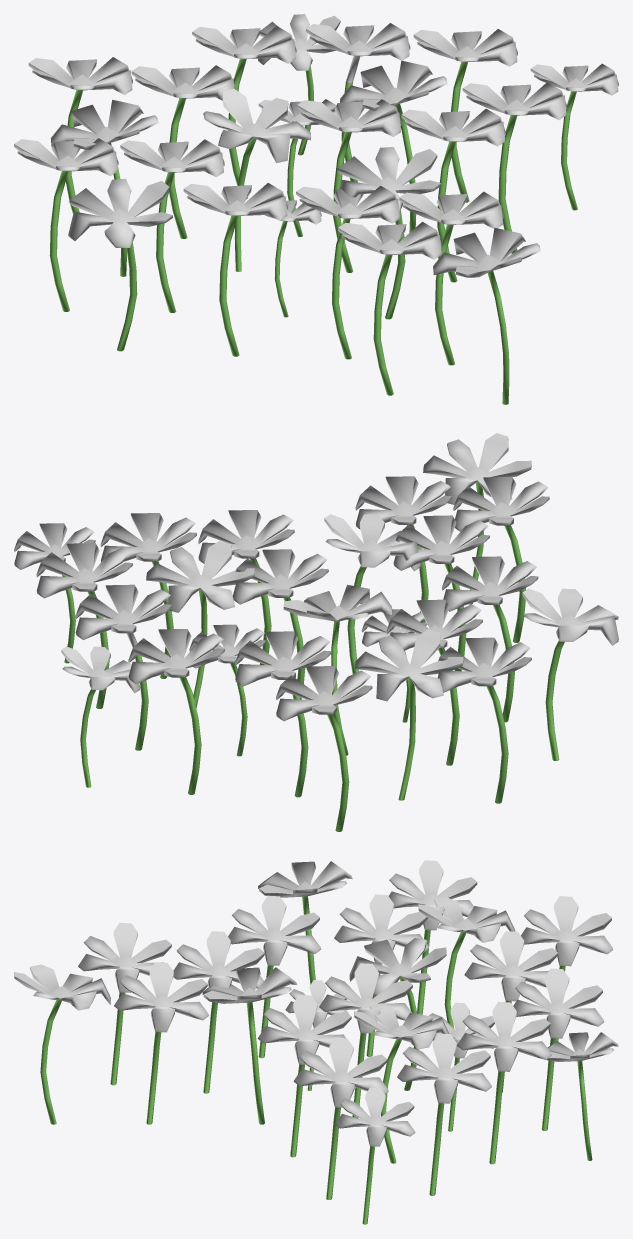
The model's file is Flower.fbx.
3 renders of one model, top to bottom at view 1: azimuth 30°, elevation 25°; view 2: azimuth 150°, elevation 25°; view 3: azimuth 270°, elevation 25°, orthographic. The views are drawn at different scales.
Parts seen in each view (by area): view 1: Flow; view 2: Flow; view 3: Flow.
Part boxes in pixels (x1,y1,x2,y2): Flow: (14, 14, 618, 404); Flow: (14, 433, 618, 831); Flow: (14, 860, 618, 1224).
Bounding box in the file's own units: 1167 × 328 × 1173.
